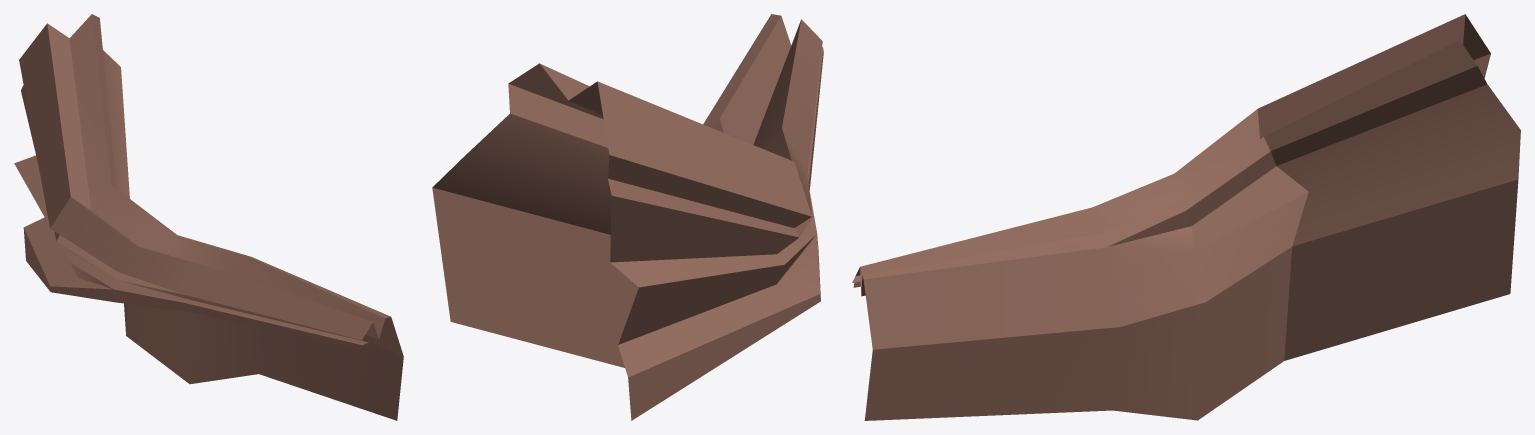
Rendered from SM_Tree_Stump_Root_01.fbx.
The picture shows the model from 3 angles, left to right: view 1: azimuth 30°, elevation 25°; view 2: azimuth 150°, elevation 25°; view 3: azimuth 270°, elevation 25°; orthographic projection. The views are drawn at different scales.
Parts seen in each view (by area): view 1: SM_Tree_Stump_Root_01; view 2: SM_Tree_Stump_Root_01; view 3: SM_Tree_Stump_Root_01.
Boxes of the visible parts, left/top/right/bottom form: SM_Tree_Stump_Root_01: left=14, top=14, right=403, bottom=420; SM_Tree_Stump_Root_01: left=432, top=14, right=823, bottom=420; SM_Tree_Stump_Root_01: left=852, top=14, right=1520, bottom=420.
Size of the model in its own units: 91.26 by 127 by 201.
